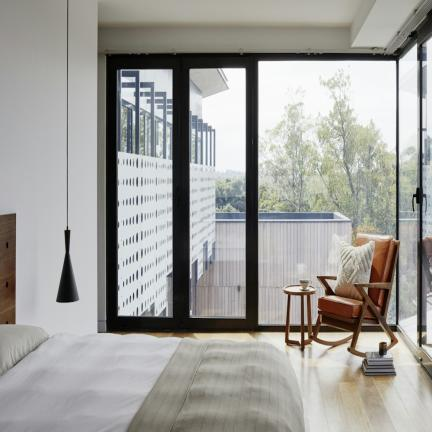air conditioner: (362, 364, 396, 374), (364, 357, 393, 367), (366, 352, 392, 361)
carpet: (311, 233, 399, 356), (340, 265, 340, 267)
curtain: (107, 56, 181, 328), (181, 56, 253, 328), (397, 10, 432, 376), (183, 237, 186, 240), (184, 234, 186, 236)
door: (301, 334, 432, 431), (359, 333, 383, 346), (322, 333, 339, 338), (299, 371, 302, 374), (340, 333, 342, 334)
switches: (316, 70, 384, 225), (259, 87, 317, 212), (216, 177, 245, 211)
vegetables: (0, 0, 97, 334)
wall: (258, 61, 396, 323), (294, 214, 305, 220), (275, 214, 280, 220), (313, 281, 318, 284), (297, 318, 299, 321), (391, 311, 392, 314), (391, 302, 392, 305), (313, 310, 314, 312), (284, 301, 286, 302)
